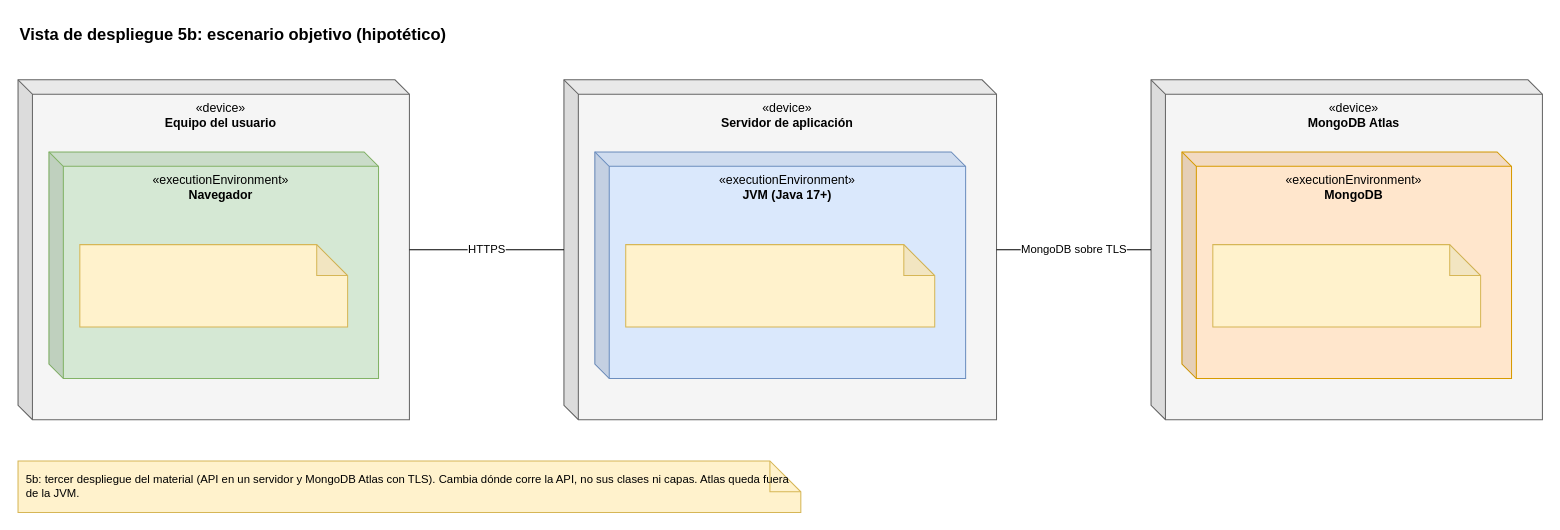
This 1560x530 diagram has some shape labels left out. Here are the shapes that lost their labels. From the top down, the centre of each, then its label:
At (x=213, y=285): "«artifact» gymtrack-web SPA".
At (x=780, y=285): "«artifact» gymtrack-api.jar incluye la SPA estática".
At (x=1346, y=285): "«artifact» base de datos gymtrack".
